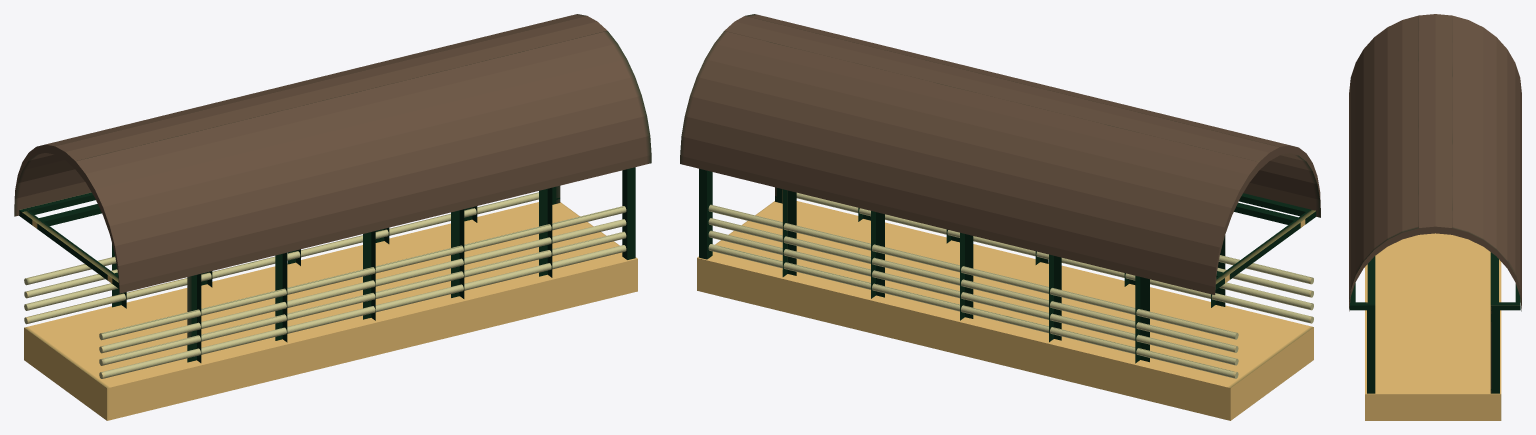
Rendered from gitna.fbx.
3 views of the same model, side by side, from view 1: azimuth 30°, elevation 25°; view 2: azimuth 150°, elevation 25°; view 3: azimuth 270°, elevation 25° (orthographic). The views are drawn at different scales.
Visible parts, largest first — view 1: GITNA; view 2: GITNA; view 3: GITNA.
Part boxes in pixels (box(x1,y1,x2,y2)): GITNA: box(14, 14, 651, 420); GITNA: box(680, 14, 1320, 420); GITNA: box(1349, 14, 1521, 420).
Bounding box in the file's own units: 4051 × 1714 × 1374.
Materials: 1 (1 with a texture image).
